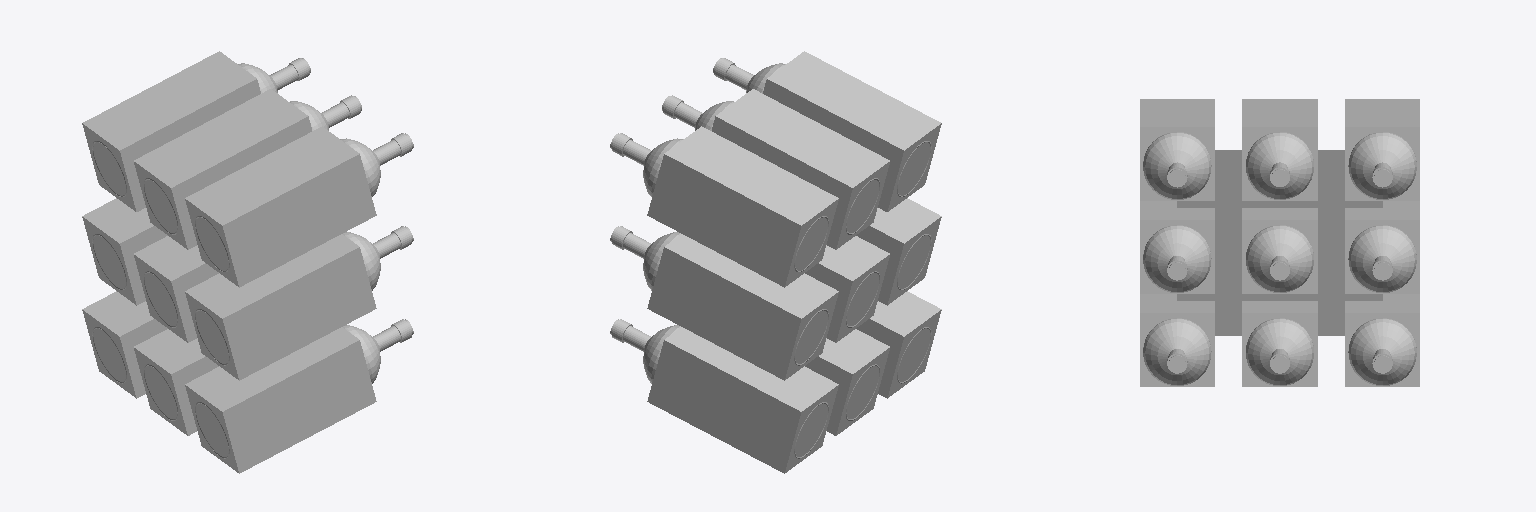
The model's file is render02Triang.obj.
3 renders of one model, left to right at view 1: azimuth 30°, elevation 25°; view 2: azimuth 150°, elevation 25°; view 3: azimuth 270°, elevation 25°, orthographic.
Visible parts, largest first — view 1: Plane; view 2: Plane; view 3: Plane.
Boxes of the visible parts, box(x1,y1,x2,y2) form: Plane: box(82, 51, 413, 473); Plane: box(610, 51, 941, 473); Plane: box(1140, 99, 1419, 386).
Bounding box in the file's own units: 1.4 × 1.87 × 1.64.